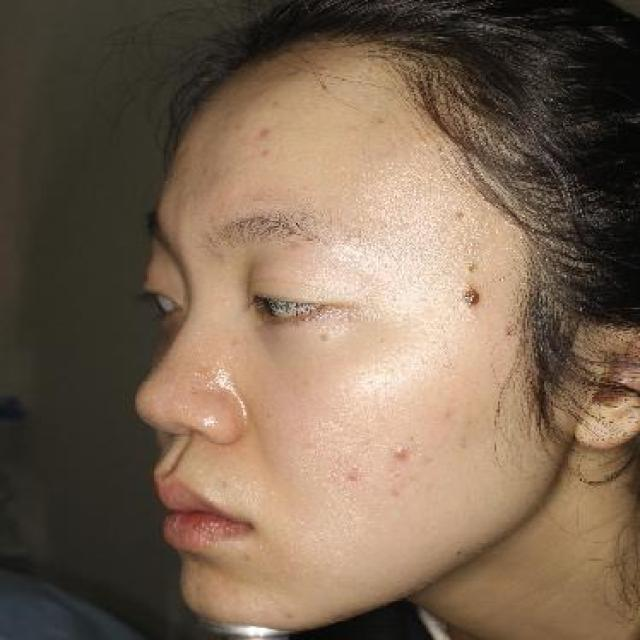dark spot: (340, 460, 370, 492), (455, 252, 488, 274), (250, 122, 275, 142), (248, 143, 276, 159)
papules: (383, 437, 414, 471)
